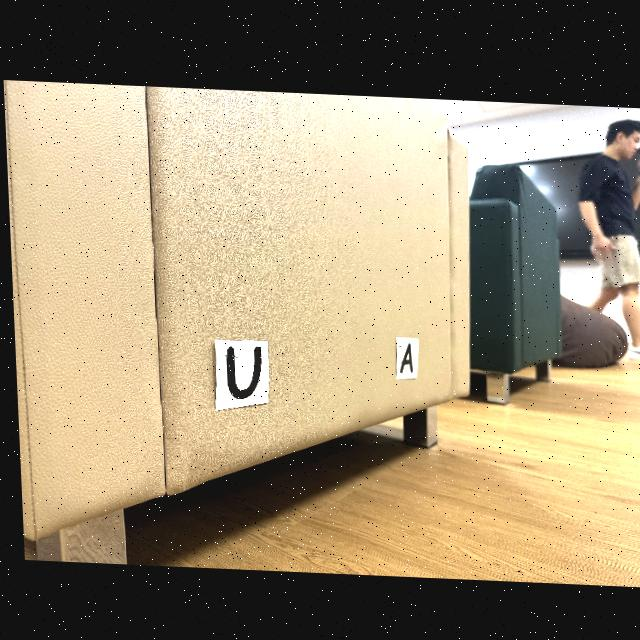A: (397, 339, 410, 370)
U: (223, 345, 258, 397)
